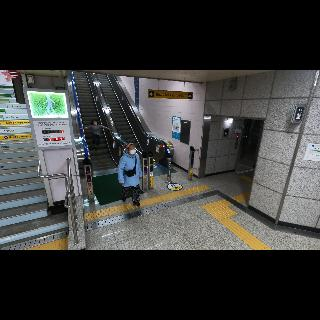normal: (115, 142, 144, 208), (78, 120, 112, 150)
